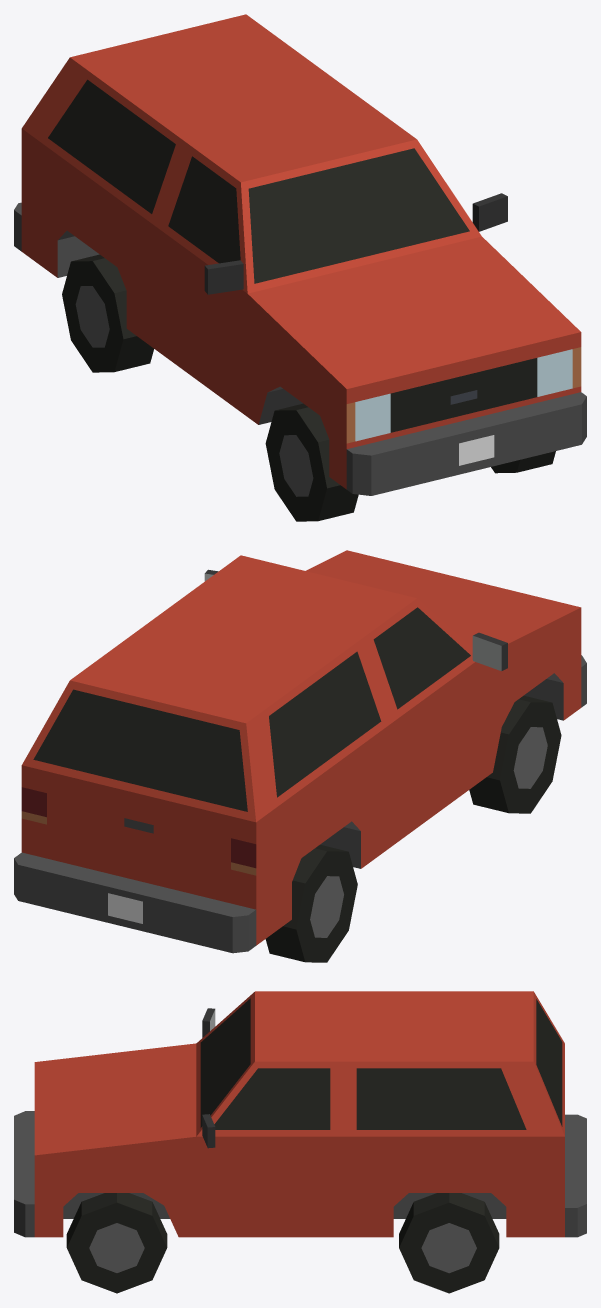
File: Veh_SUV_02_Red.glb
3 views of the same model, one above another, from view 1: azimuth 30°, elevation 25°; view 2: azimuth 150°, elevation 25°; view 3: azimuth 270°, elevation 25° (orthographic). The views are drawn at different scales.
Visible parts, largest first — view 1: SUV_02_Red, Wheel_RR, Wheel_FR, Wheel_FL; view 2: SUV_02_Red, Wheel_RR, Wheel_FR; view 3: SUV_02_Red, Wheel_FL, Wheel_RL.
Boxes of the visible parts, bbox=[...] form: SUV_02_Red: bbox=[14, 14, 586, 495]; Wheel_RR: bbox=[62, 254, 153, 372]; Wheel_FR: bbox=[265, 403, 358, 521]; Wheel_FL: bbox=[491, 451, 555, 473]; SUV_02_Red: bbox=[14, 550, 586, 953]; Wheel_RR: bbox=[265, 844, 357, 962]; Wheel_FR: bbox=[469, 695, 561, 813]; SUV_02_Red: bbox=[14, 991, 586, 1237]; Wheel_FL: bbox=[66, 1193, 167, 1293]; Wheel_RL: bbox=[399, 1193, 499, 1293].
Size of the model in its own units: 1.27 by 1.1 by 2.58.
Materials: 1 (1 with a texture image).
